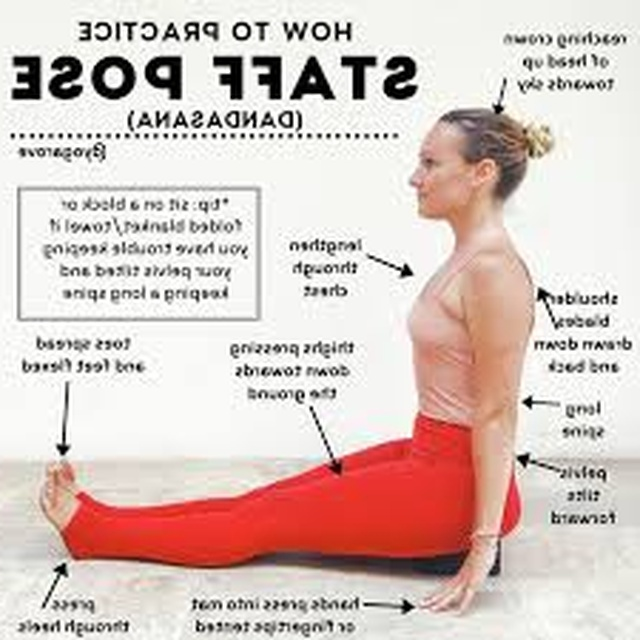Staff_Pose: (41, 107, 555, 614)
